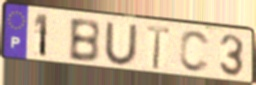1: (33, 12, 49, 60)
3: (218, 33, 245, 79)
B: (67, 18, 102, 65)
C: (177, 29, 212, 75)
T: (145, 23, 172, 71)
U: (103, 21, 140, 67)
